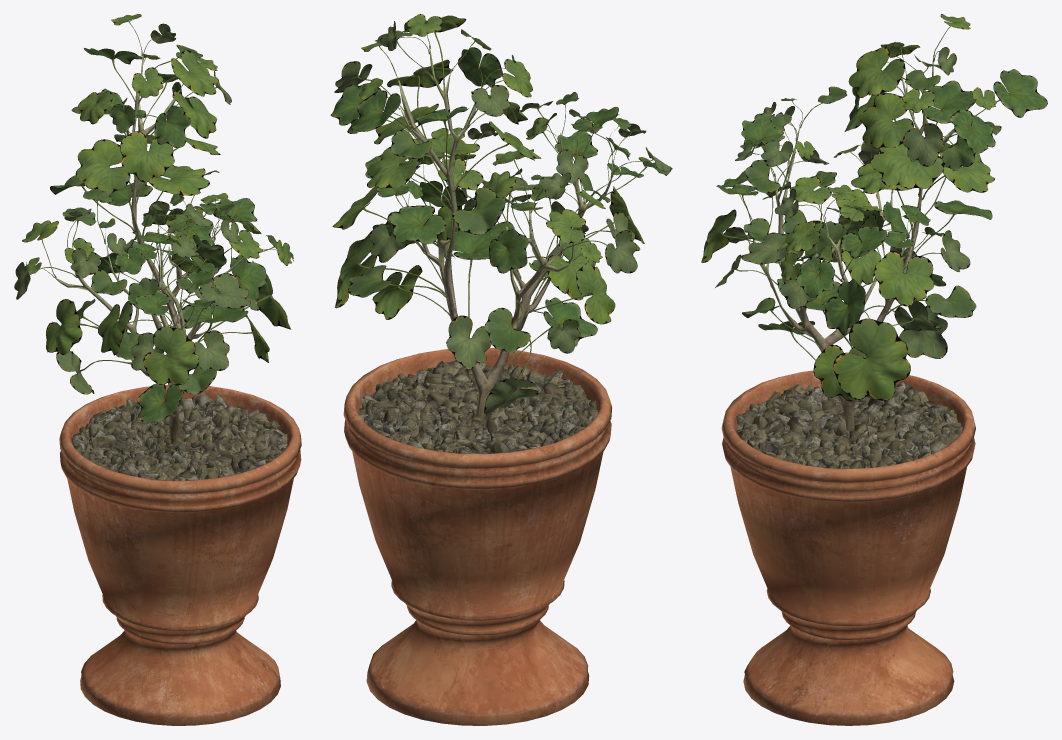
File: potted_plant_01.glb
3 renders of one model, left to right at view 1: azimuth 30°, elevation 25°; view 2: azimuth 150°, elevation 25°; view 3: azimuth 270°, elevation 25°, orthographic. The views are drawn at different scales.
Visible parts, largest first — view 1: potted_plant_01_stem, potted_plant_01_leaves; view 2: potted_plant_01_stem, potted_plant_01_leaves; view 3: potted_plant_01_stem, potted_plant_01_leaves.
Boxes of the visible parts, x1,y1,x2,y2 form: potted_plant_01_stem: (54, 54, 301, 725); potted_plant_01_leaves: (14, 14, 293, 424); potted_plant_01_stem: (343, 48, 612, 725); potted_plant_01_leaves: (330, 14, 672, 414); potted_plant_01_stem: (721, 55, 975, 725); potted_plant_01_leaves: (701, 14, 1047, 401).
Bounding box in the file's own units: 0.5874 × 1.34 × 0.6336.
Materials: 2 (2 with a texture image).
